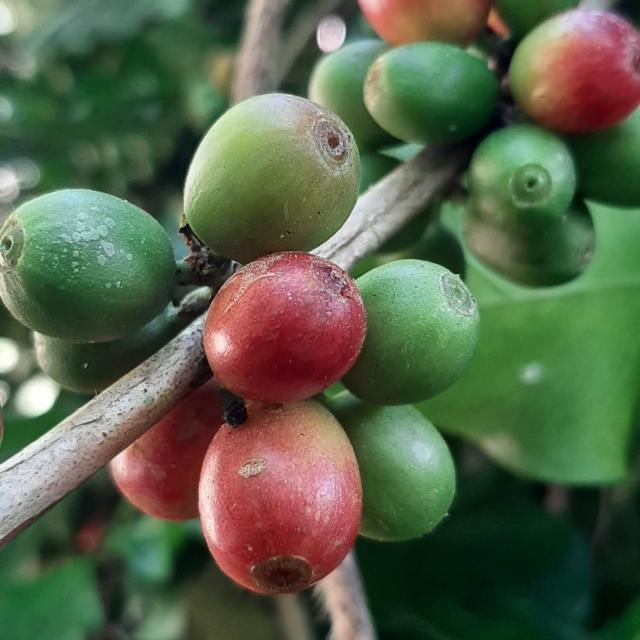green: (184, 93, 360, 263), (0, 189, 175, 343), (343, 259, 480, 406), (337, 403, 456, 542), (33, 302, 186, 394), (364, 41, 499, 143), (467, 198, 596, 286), (468, 123, 577, 227), (309, 38, 392, 151), (568, 106, 640, 207), (494, 0, 580, 35)
red: (203, 252, 366, 403)
yellow: (198, 401, 362, 596), (109, 383, 225, 522), (510, 9, 640, 133), (358, 0, 491, 45)
